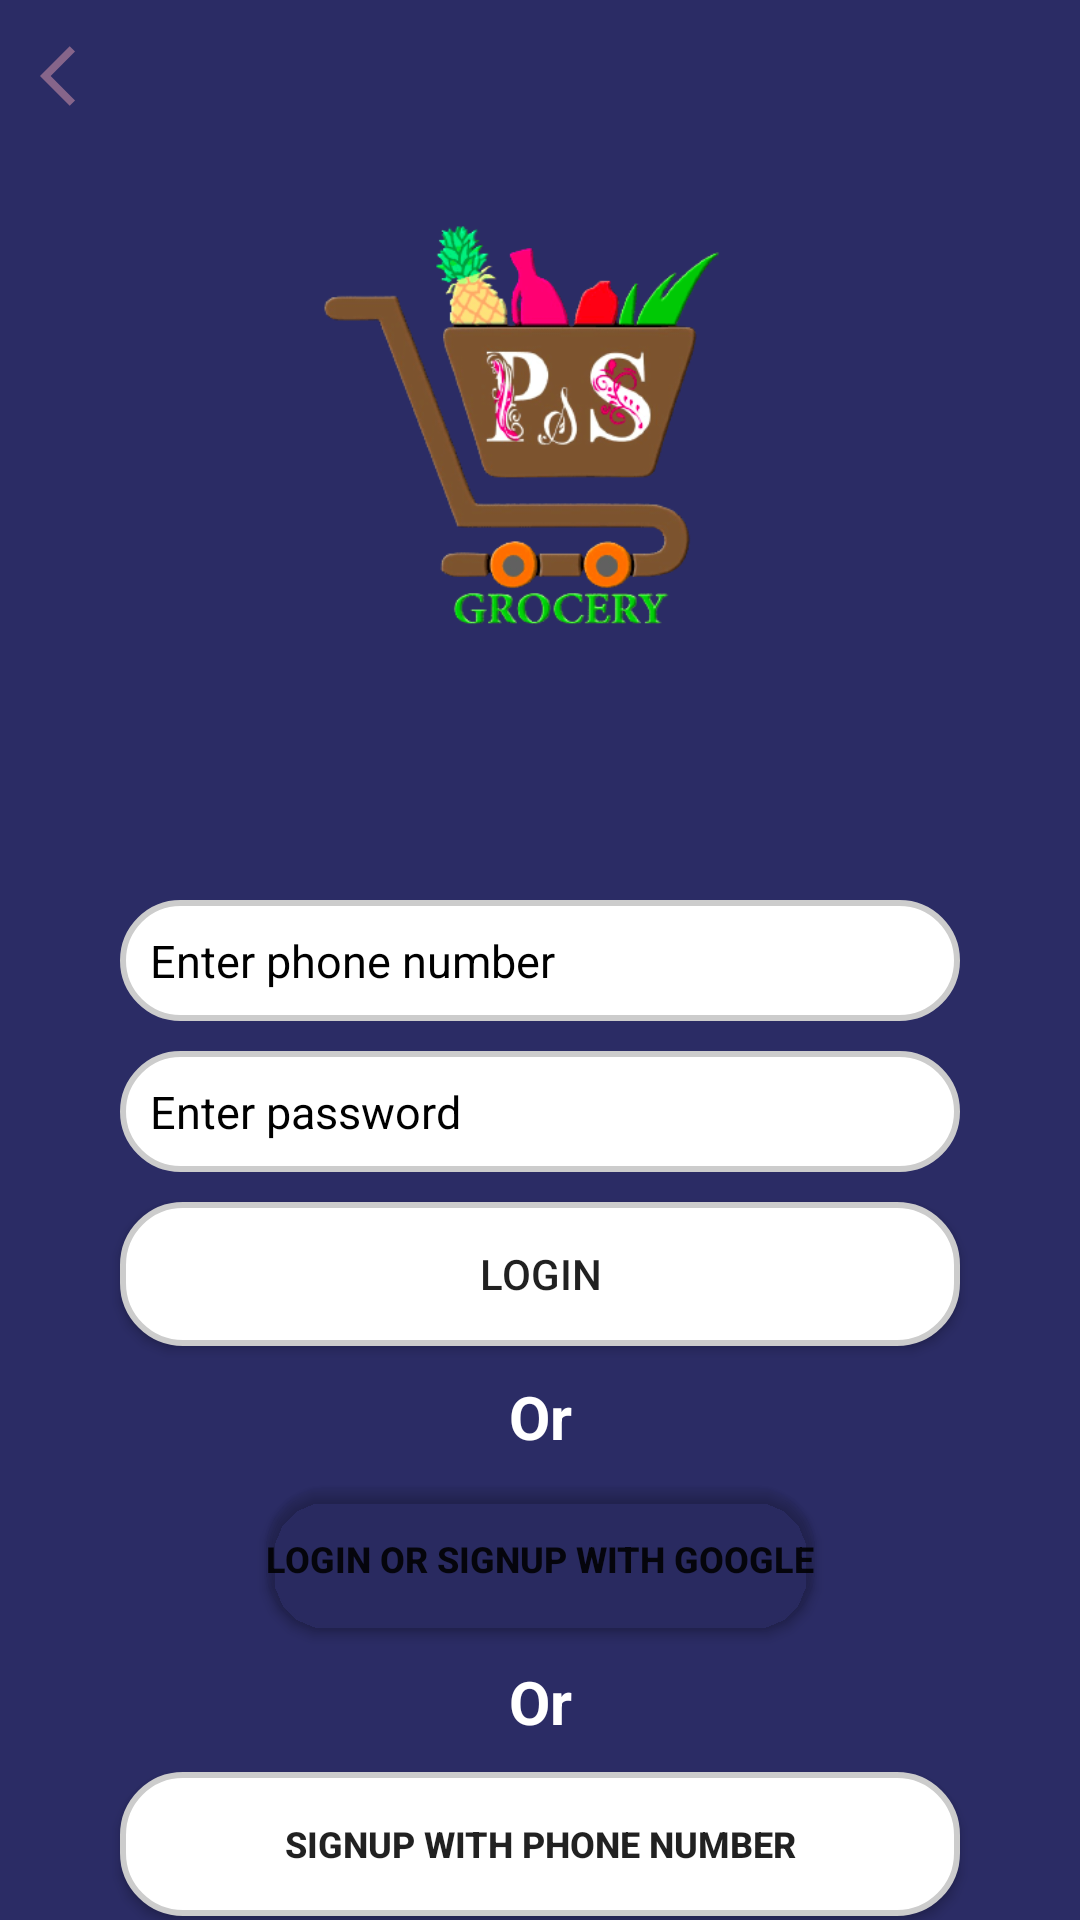

Icons on this 1080x1920 Android screen, each with its box as bbox(x1, y1, x2, y2):
back: bbox(40, 46, 75, 106)
